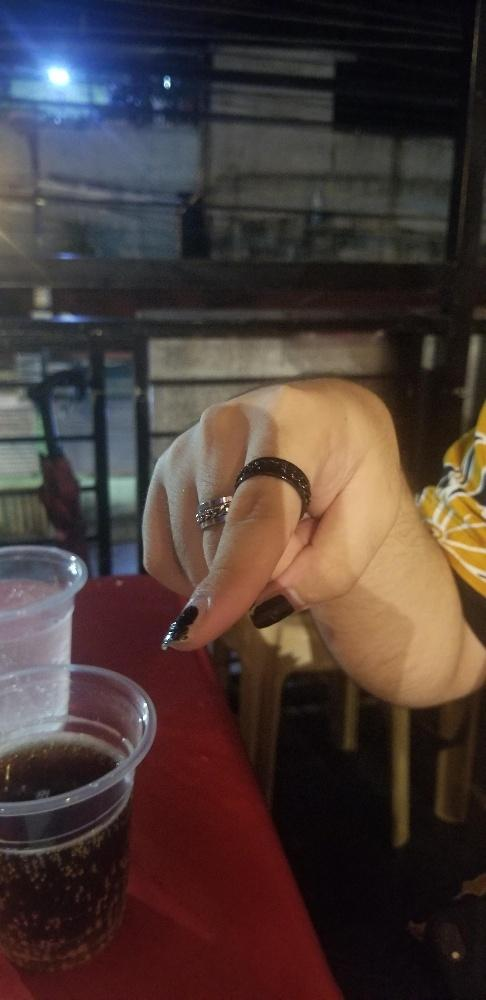z: (136, 377, 388, 652)
